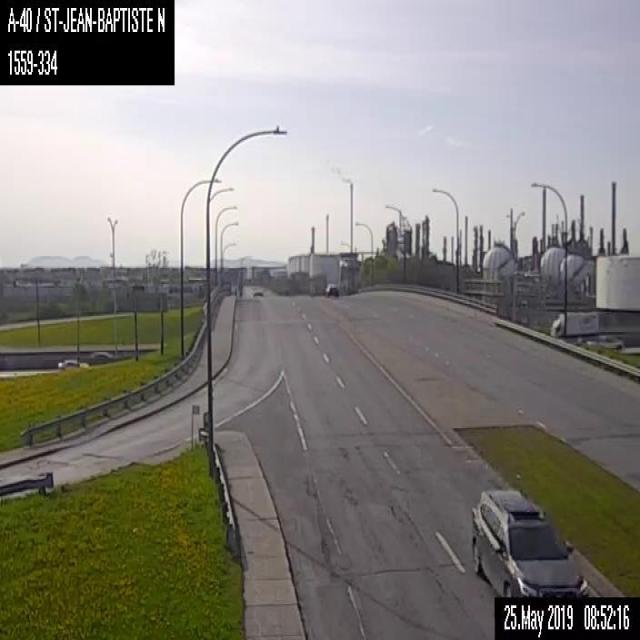vehicle: (470, 487, 589, 596), (55, 358, 87, 369), (86, 352, 114, 359), (326, 284, 338, 297)
